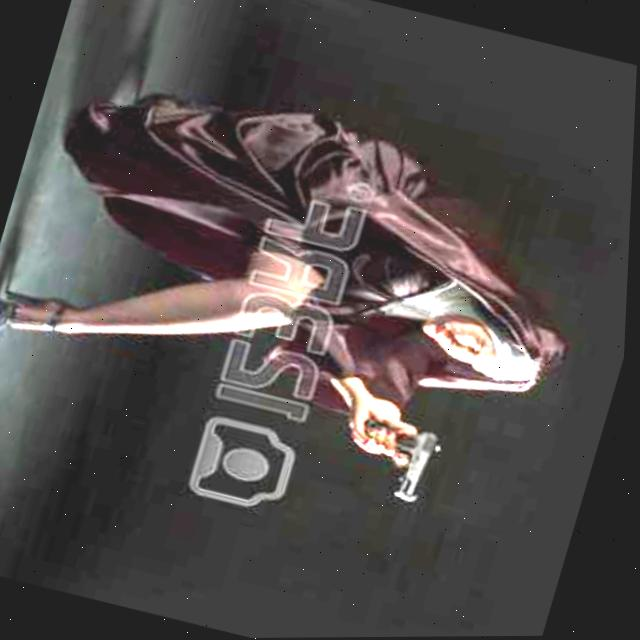pistol: (311, 374, 482, 522)
